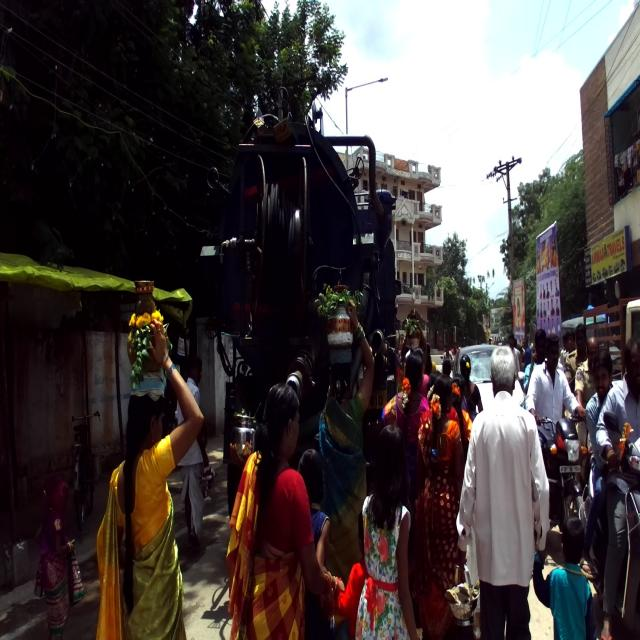motorcycle_Hero: (536, 414, 589, 554)
truck: (203, 107, 401, 528)
